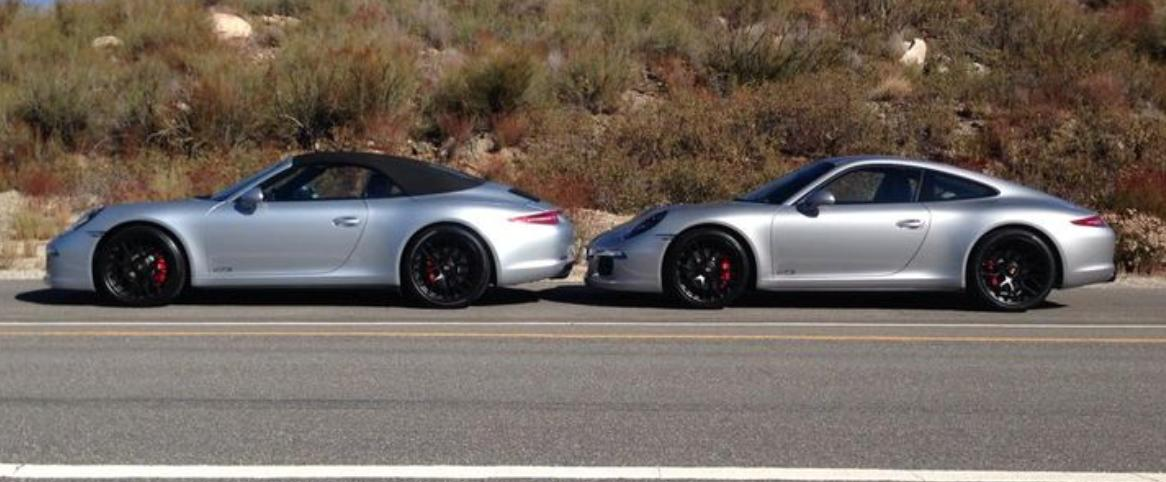car: (594, 143, 1121, 330), (34, 142, 582, 319)
